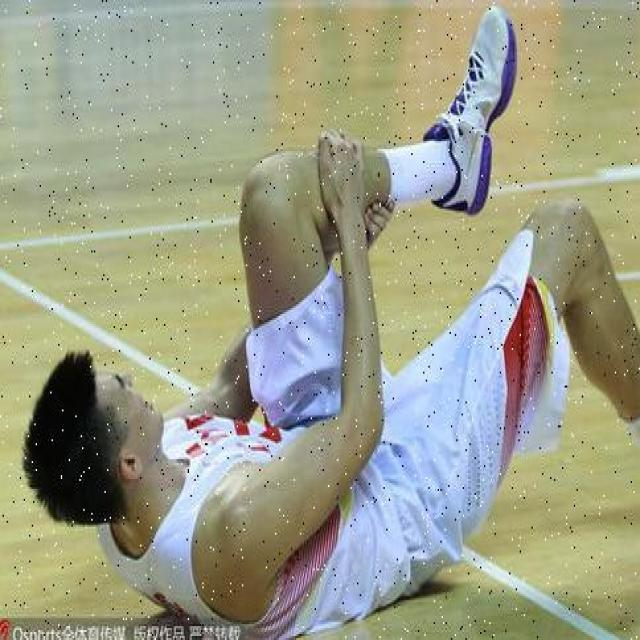fall: (21, 112, 618, 592)
